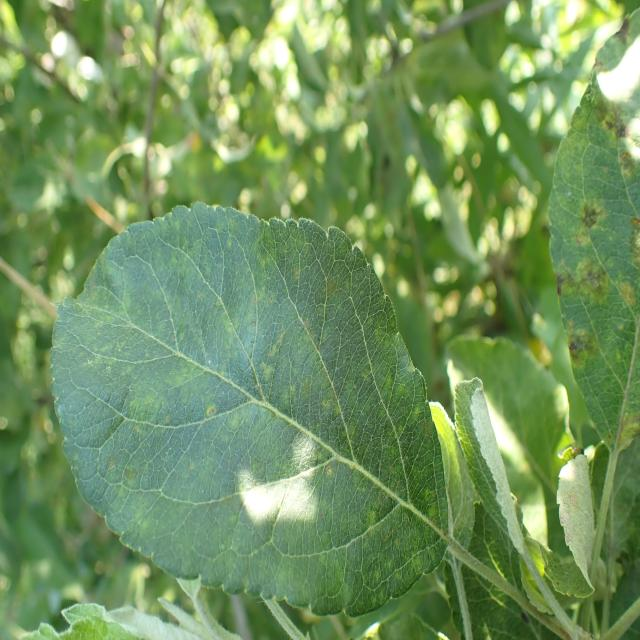scab: (88, 253, 426, 574), (545, 78, 640, 454)
